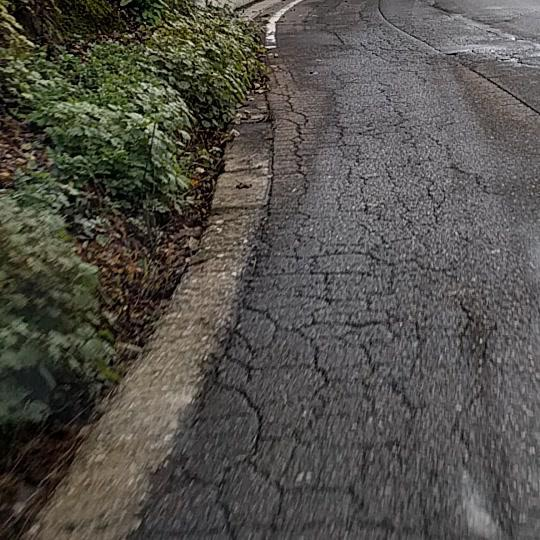D20: (158, 11, 502, 538)
